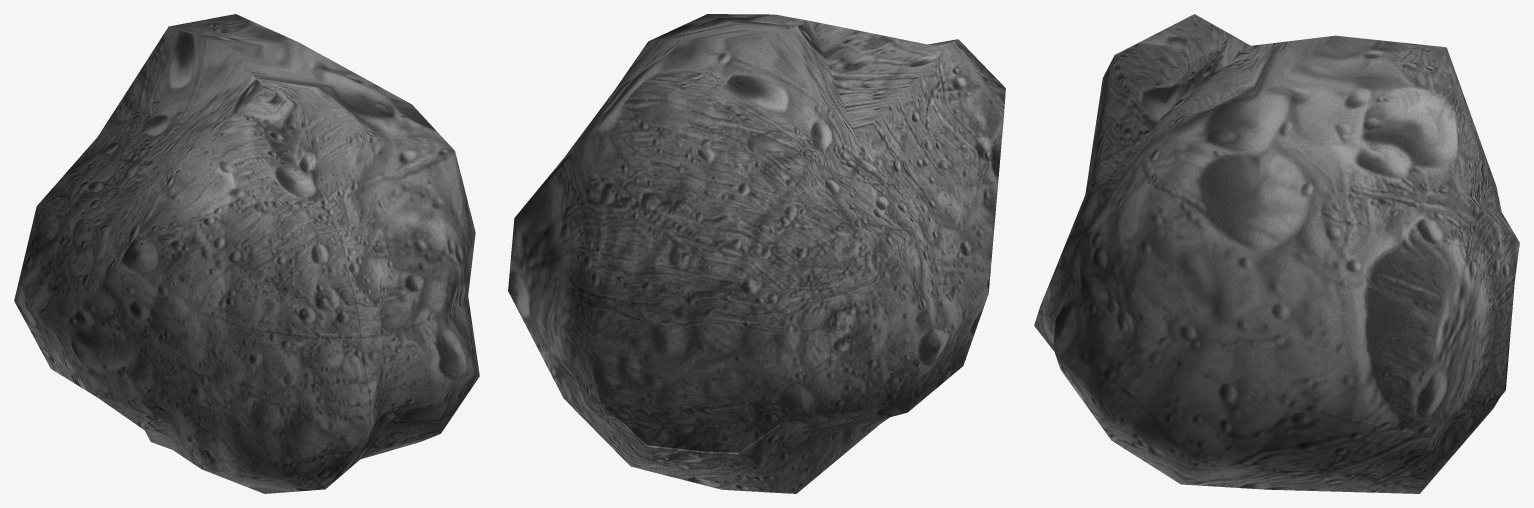
File: Asteroid02.DAE
3 views of the same model, side by side, from view 1: azimuth 30°, elevation 25°; view 2: azimuth 150°, elevation 25°; view 3: azimuth 270°, elevation 25° (orthographic). The views are drawn at different scales.
Parts seen in each view (by area): view 1: violeta; view 2: violeta; view 3: violeta.
Part boxes in pixels (bbox=[...]): violeta: bbox=[14, 14, 479, 493]; violeta: bbox=[508, 14, 1005, 493]; violeta: bbox=[1034, 14, 1519, 493].
Bounding box in the file's own units: 4.47 × 4.59 × 4.48.
1 material, 1 textured.
